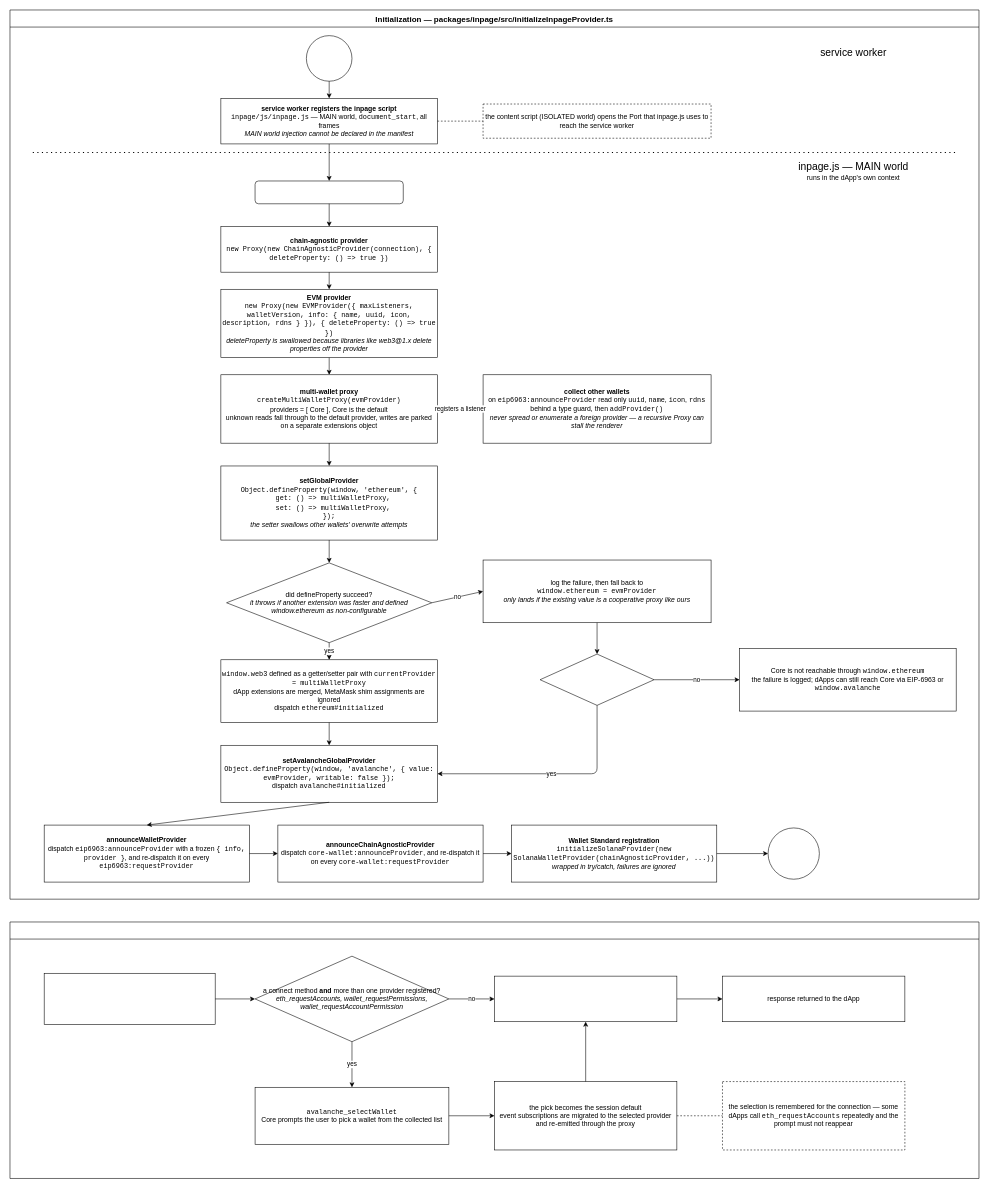
This 989x1188 diagram has some shape labels left out. Here are the shapes that lost their labels. From the top down, the box of each, then its label:
(306, 35, 352, 81): tab loads
(255, 180, 403, 204): initializeProvider(connection)
(540, 654, 654, 705): did it land?
(768, 827, 819, 879): ready
(44, 973, 215, 1025): dApp calls window.ethereum.request({ method: 'eth_requestAccounts' })
(494, 976, 677, 1022): forward the request to defaultProvider.request(args)
(9, 921, 979, 1178): Wallet selection on connect — packages/inpage/src/MultiWalletProviderProxy.ts
